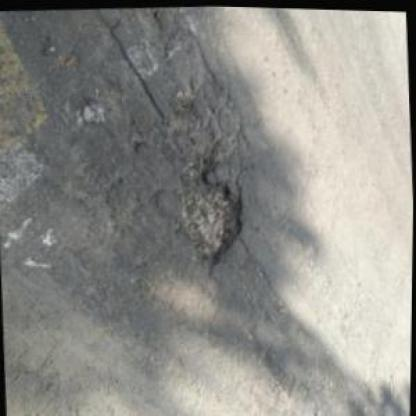pothole: (173, 174, 248, 274), (164, 94, 218, 176)
